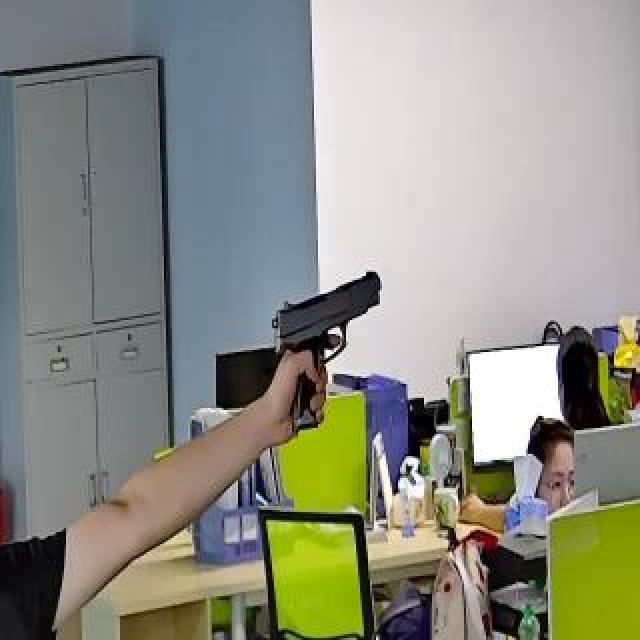Guns: (261, 249, 393, 440)
